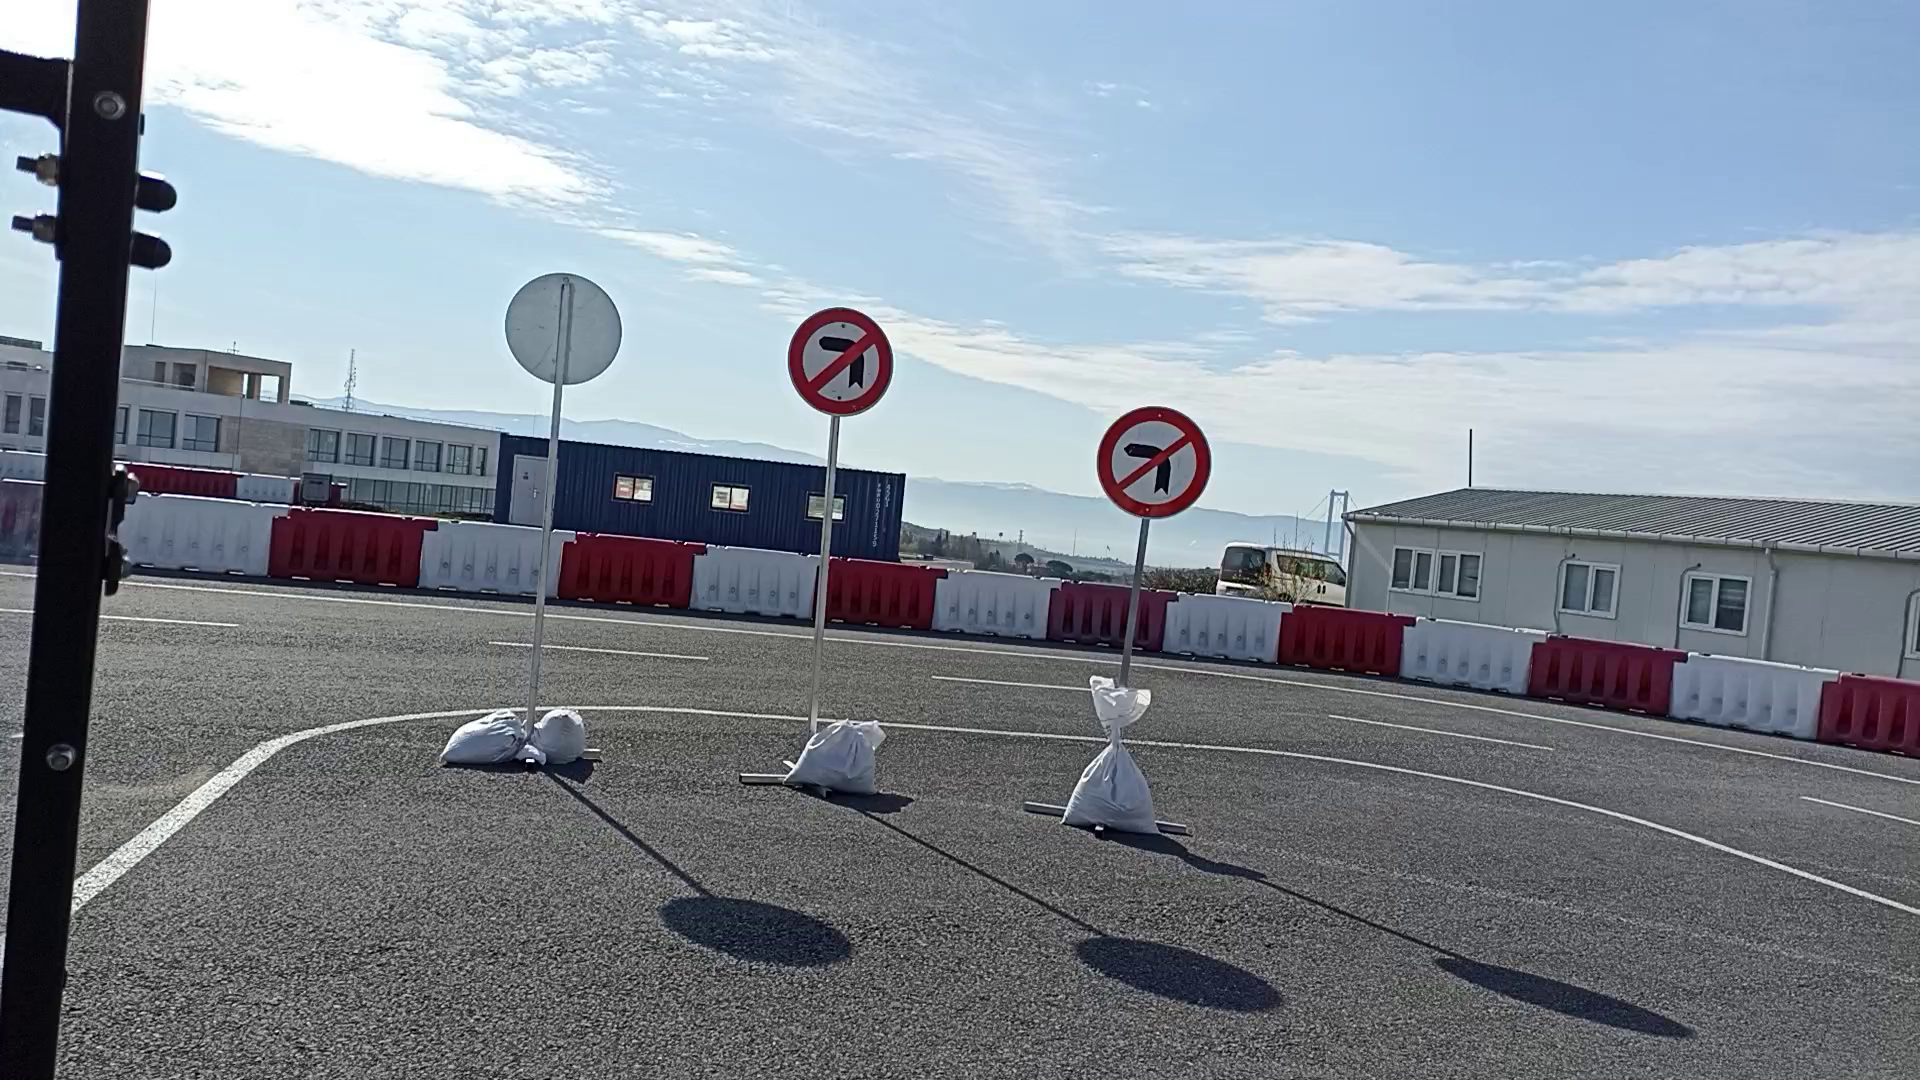noleft: (1095, 404, 1215, 522), (785, 305, 897, 418)
